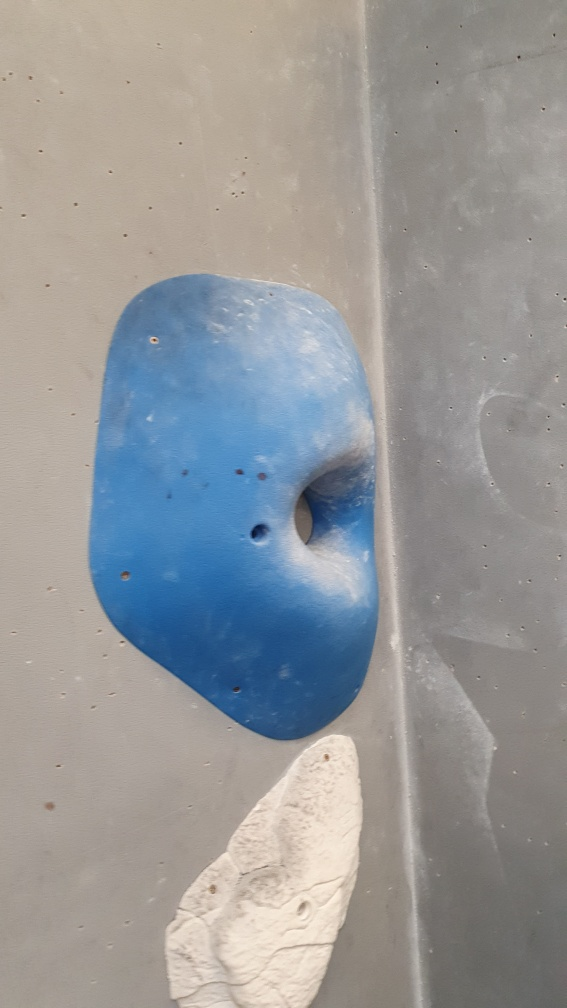Pocket: (88, 272, 384, 743)
